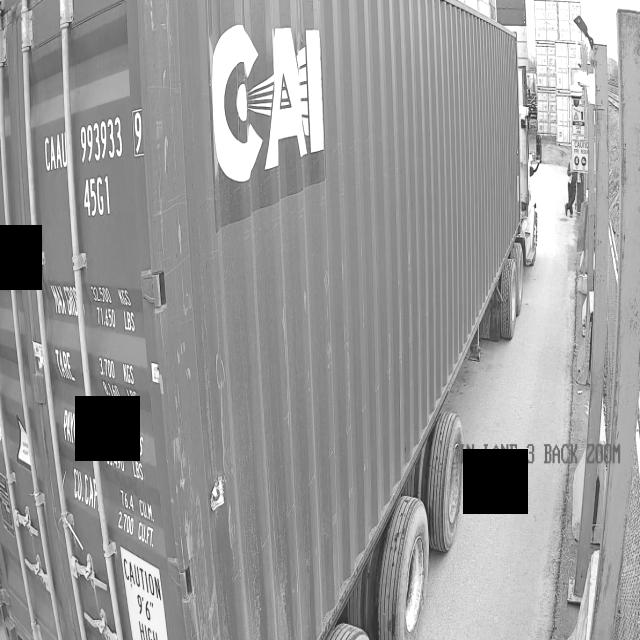container_company_logo: (198, 0, 361, 220)
container_number: (36, 86, 168, 640)
truck_with_container: (0, 0, 541, 640)
